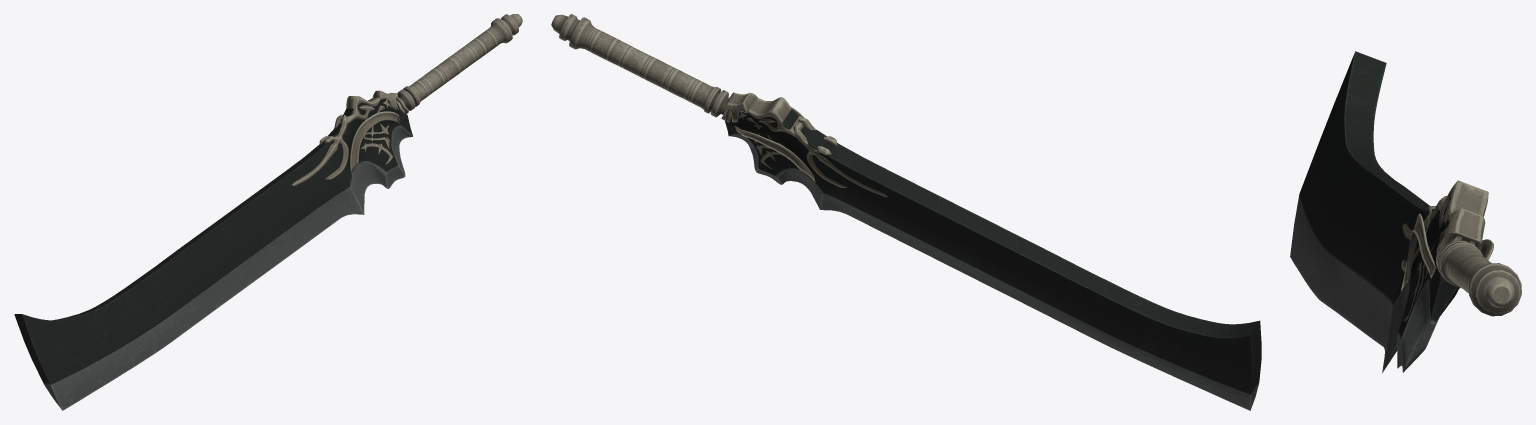
Rendered from ancient_sword.glb.
3 views of the same model, side by side, from view 1: azimuth 30°, elevation 25°; view 2: azimuth 150°, elevation 25°; view 3: azimuth 270°, elevation 25° (orthographic). The views are drawn at different scales.
Visible parts, largest first — view 1: Blade_low, Garda_low; view 2: Blade_low, Garda_low; view 3: Blade_low, Garda_low.
Part boxes in pixels (x1=…): Blade_low: x1=14, y1=90, x2=412, y2=410; Garda_low: x1=396, y1=14, x2=522, y2=113; Blade_low: x1=725, y1=92, x2=1261, y2=410; Garda_low: x1=551, y1=14, x2=731, y2=122; Blade_low: x1=1290, y1=51, x2=1493, y2=373; Garda_low: x1=1436, y1=235, x2=1521, y2=316.
Size of the model in its own units: 2.1 by 0.8851 by 0.3937.
Materials: 1 (1 with a texture image).
